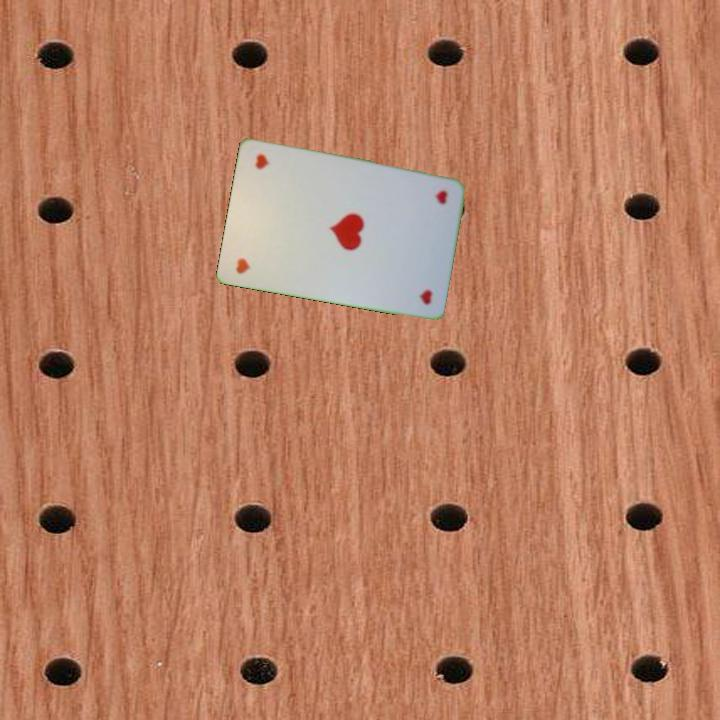h_a.png: (388, 175, 456, 251), (227, 209, 295, 284)
